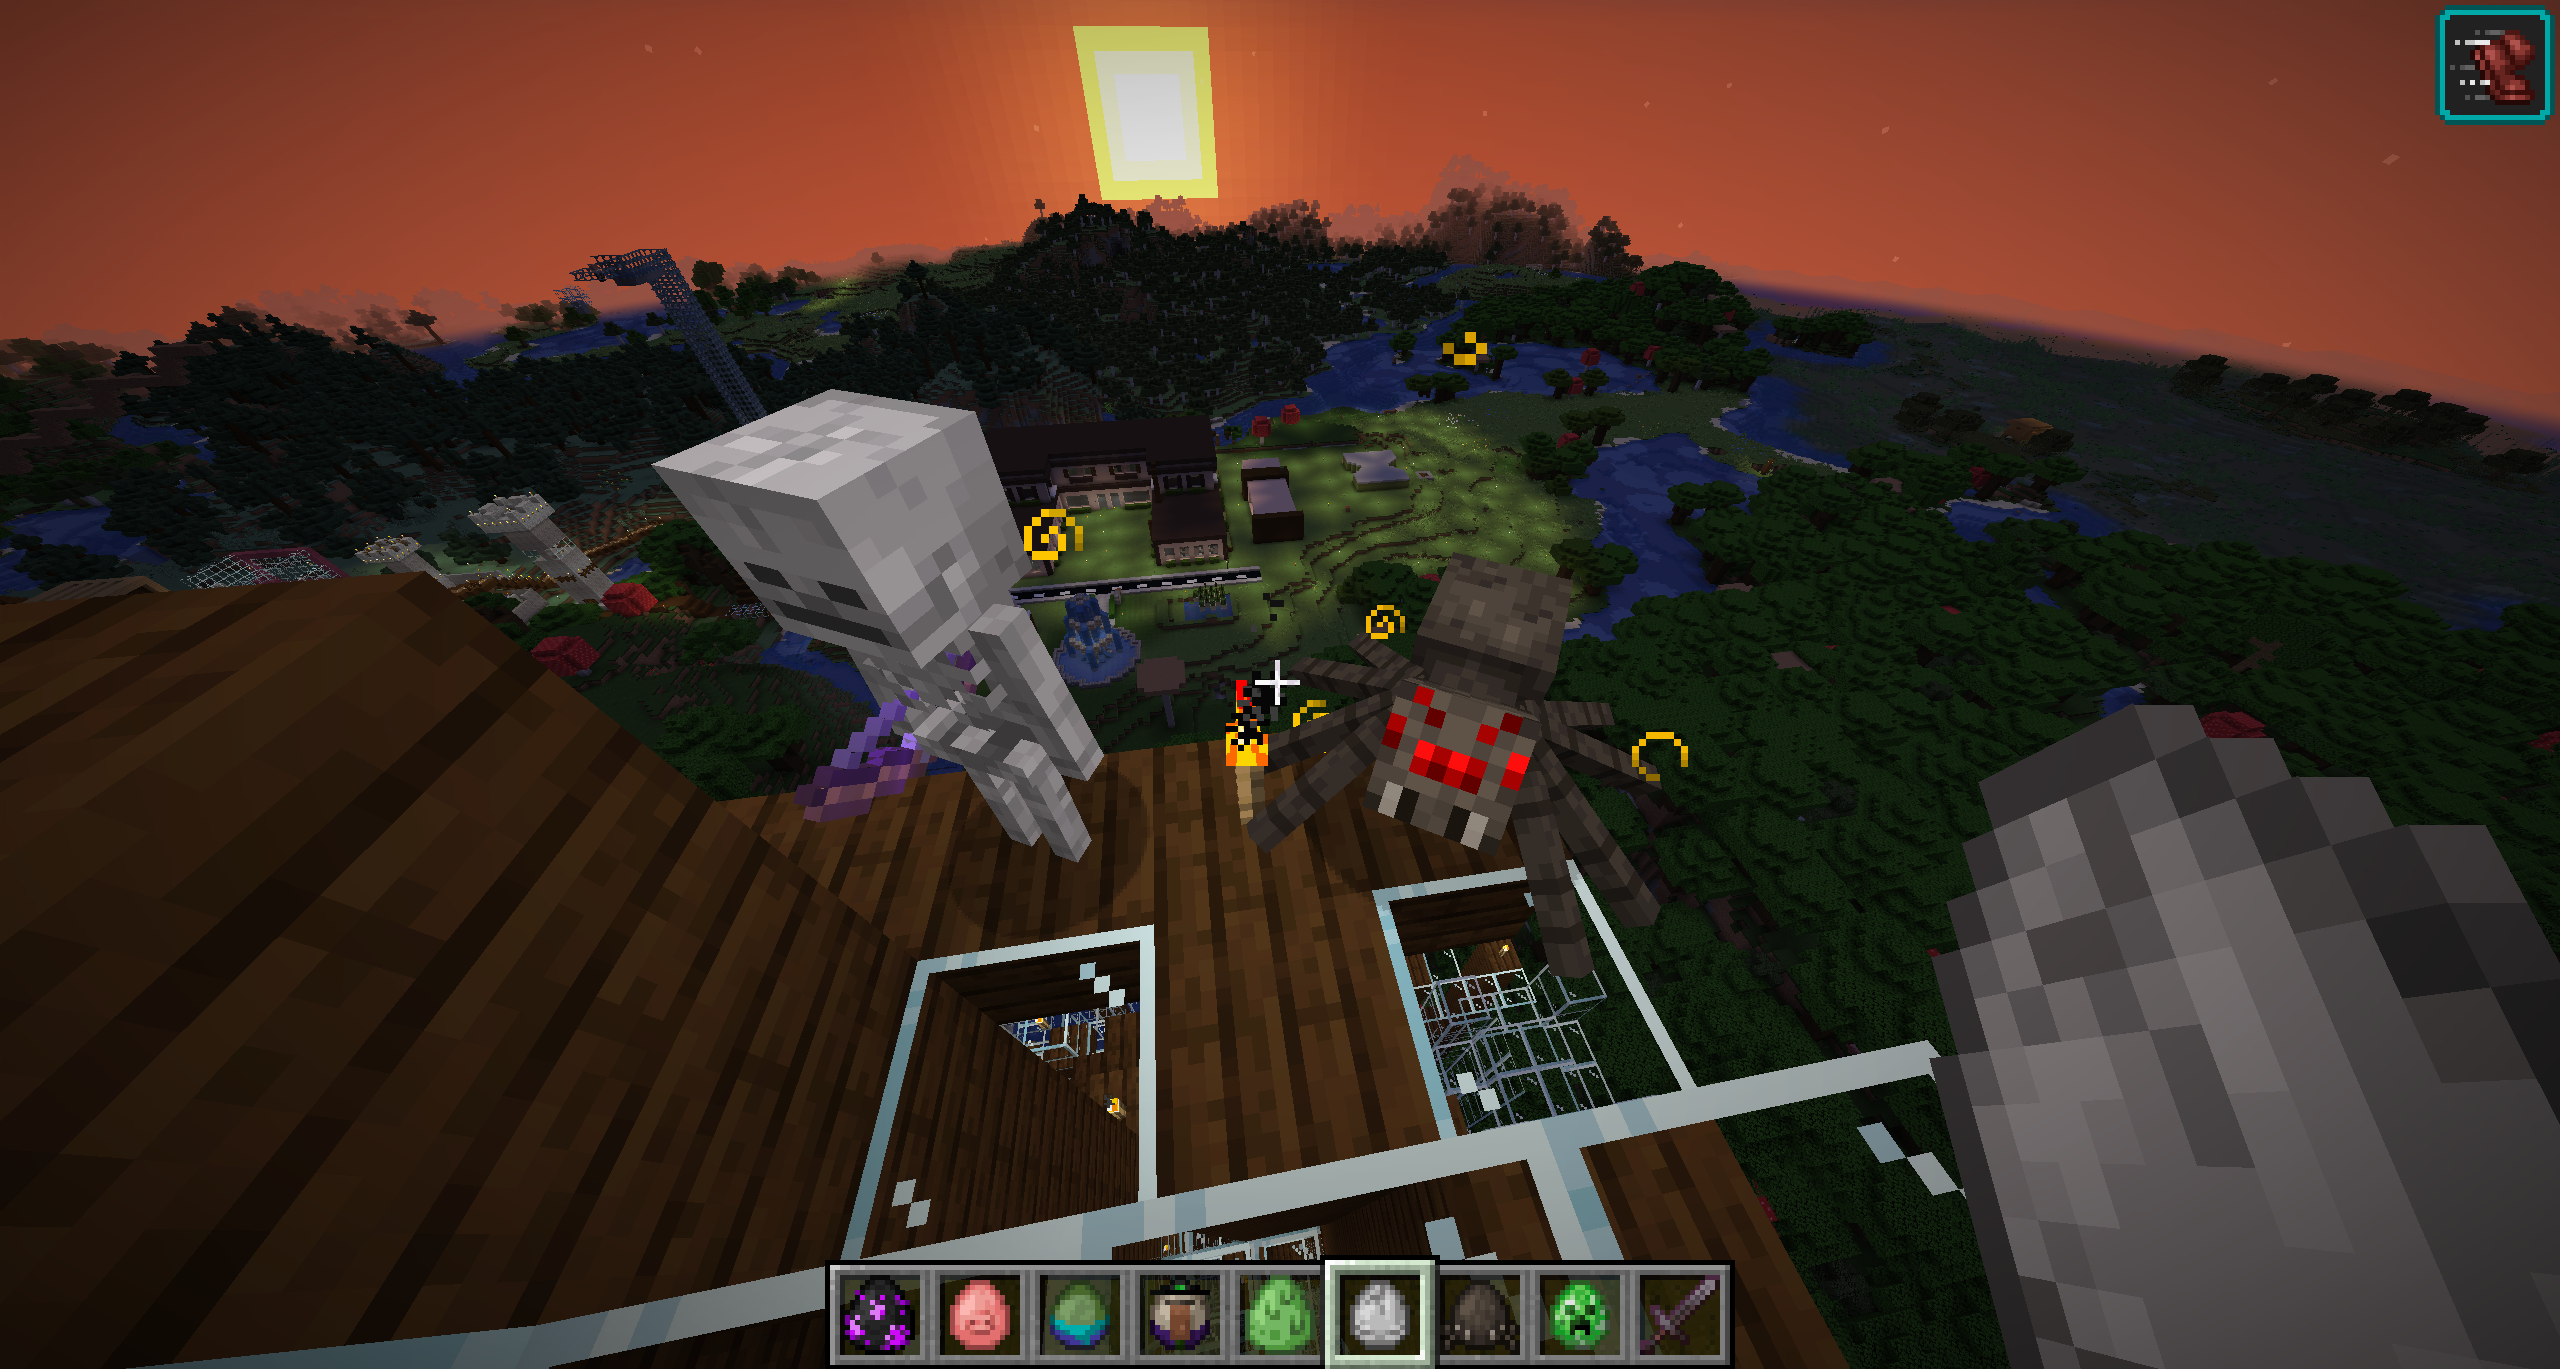araignees: (1283, 553, 1673, 849)
squelettes: (645, 386, 1119, 860)
